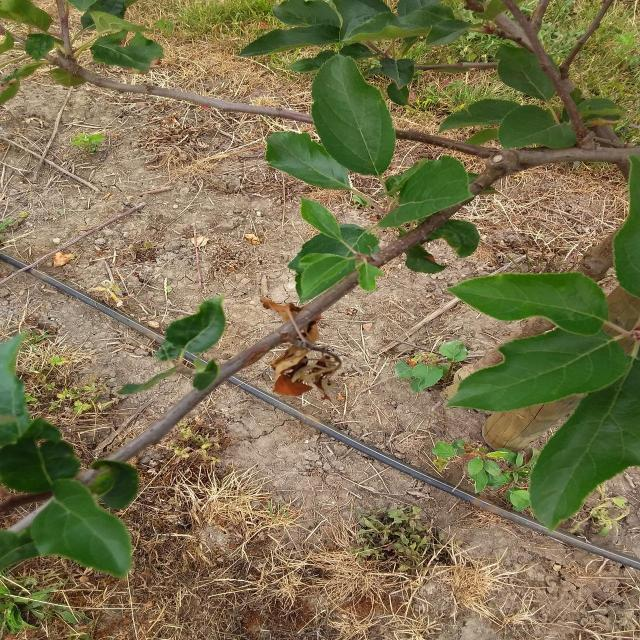-FireBlight-: (268, 296, 336, 403)
